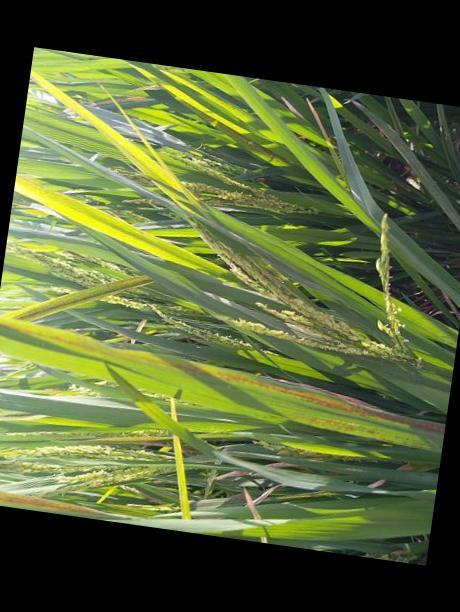Leaf Streak: (0, 315, 446, 434), (8, 274, 152, 320), (310, 416, 419, 444), (0, 488, 109, 515)
